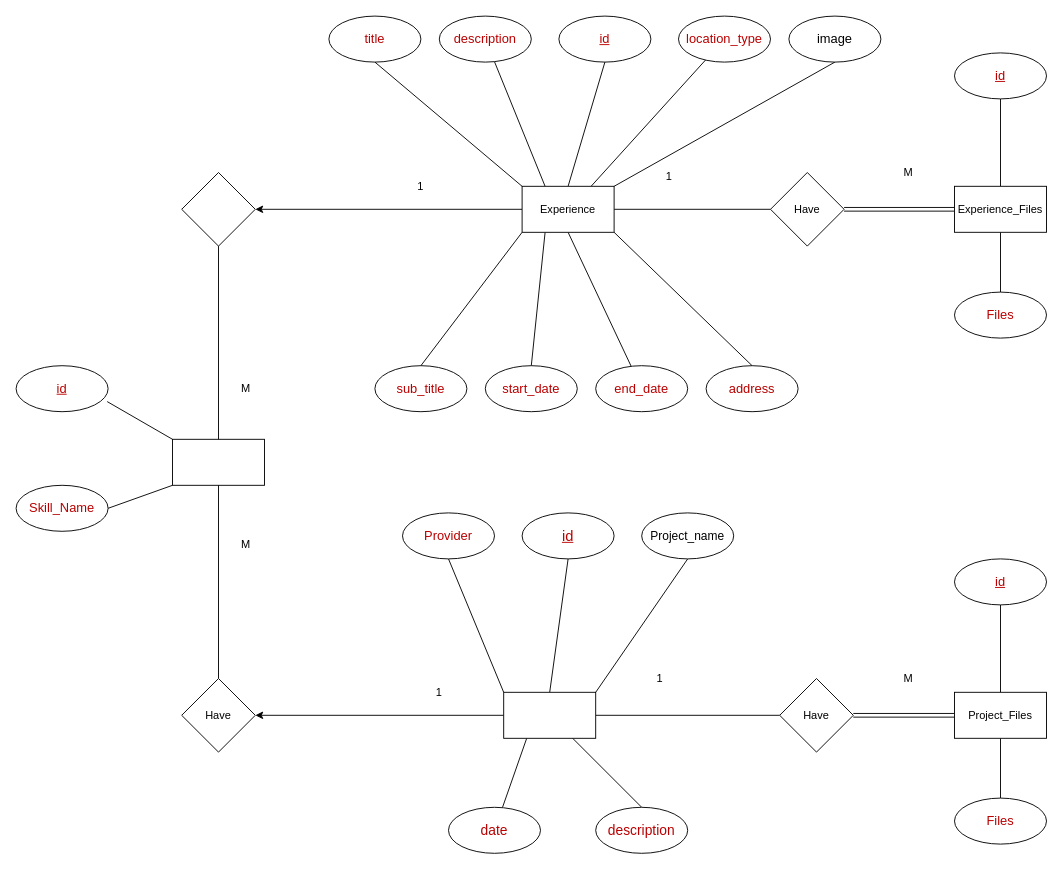
Some shapes in this 1063 by 869 pixel diagram are drawn without their labels. The shapes that lost their labels are listed below. From the top down, each one's centre as x and y in pixels, then its label:
At point (218, 209): "Use".
At point (218, 461): "Skills_Used".
At point (549, 714): "Projects".
